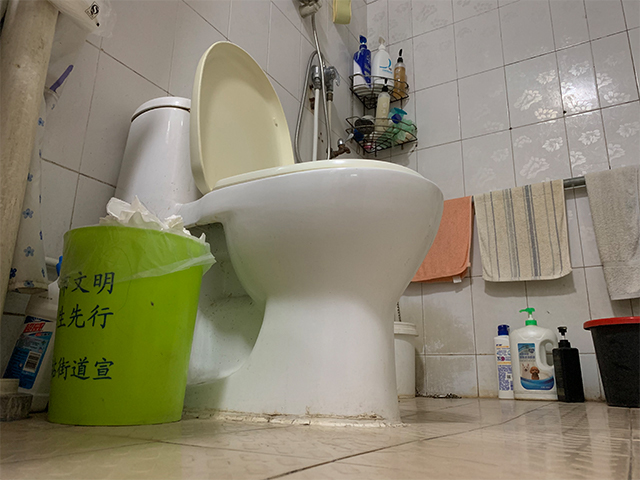closestool: (115, 38, 446, 431)
trashcan: (47, 223, 216, 426)
